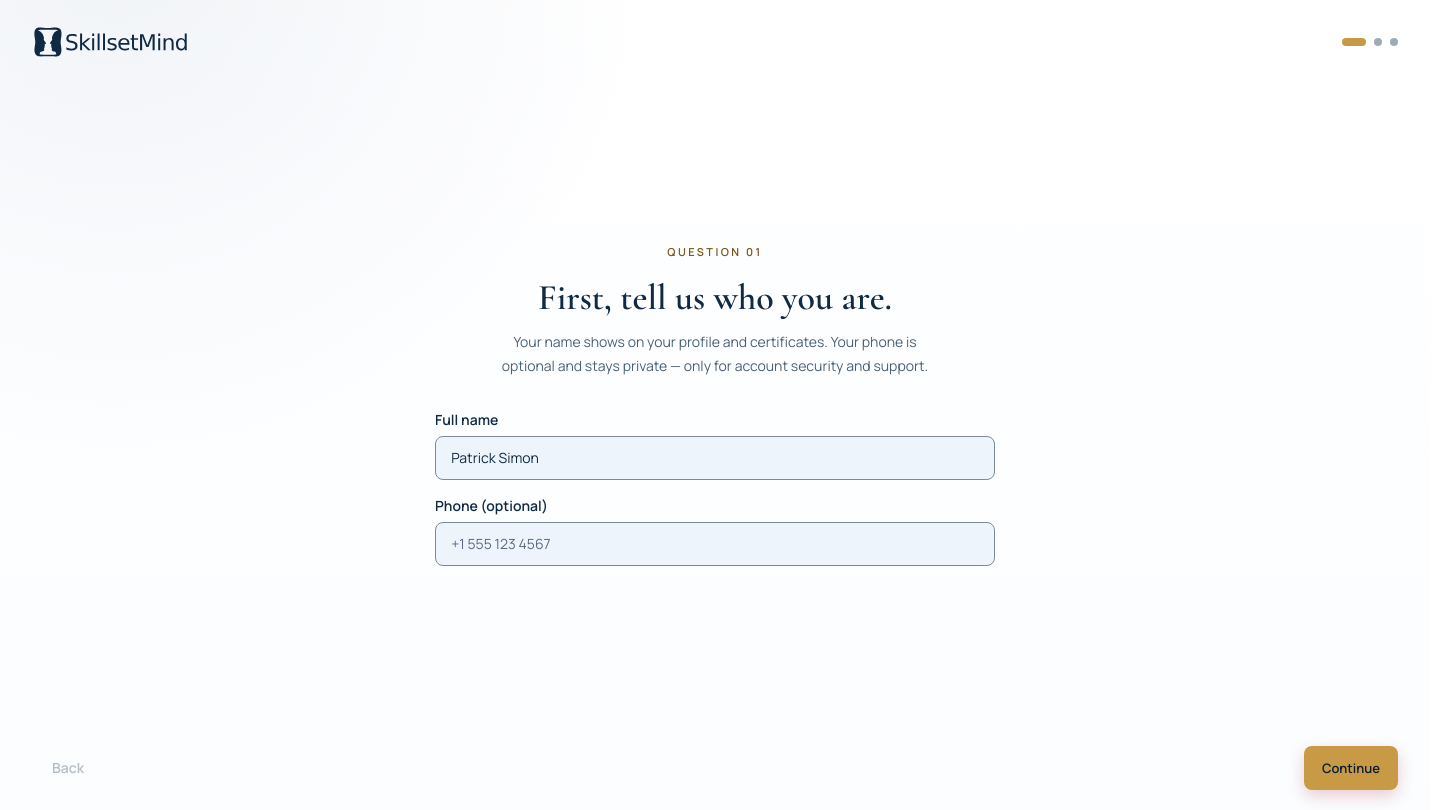
Test case: boas-vindas: o passo de perfil vem primeiro › aluno que digita um telefone torto nao passa com ele
Expected: the heading "First, tell us who you are." is shown, [538,276,892,319]
Type "12" into the field labelled "Phone (optional)" at x=715, y=544, box [435,522,995,566]
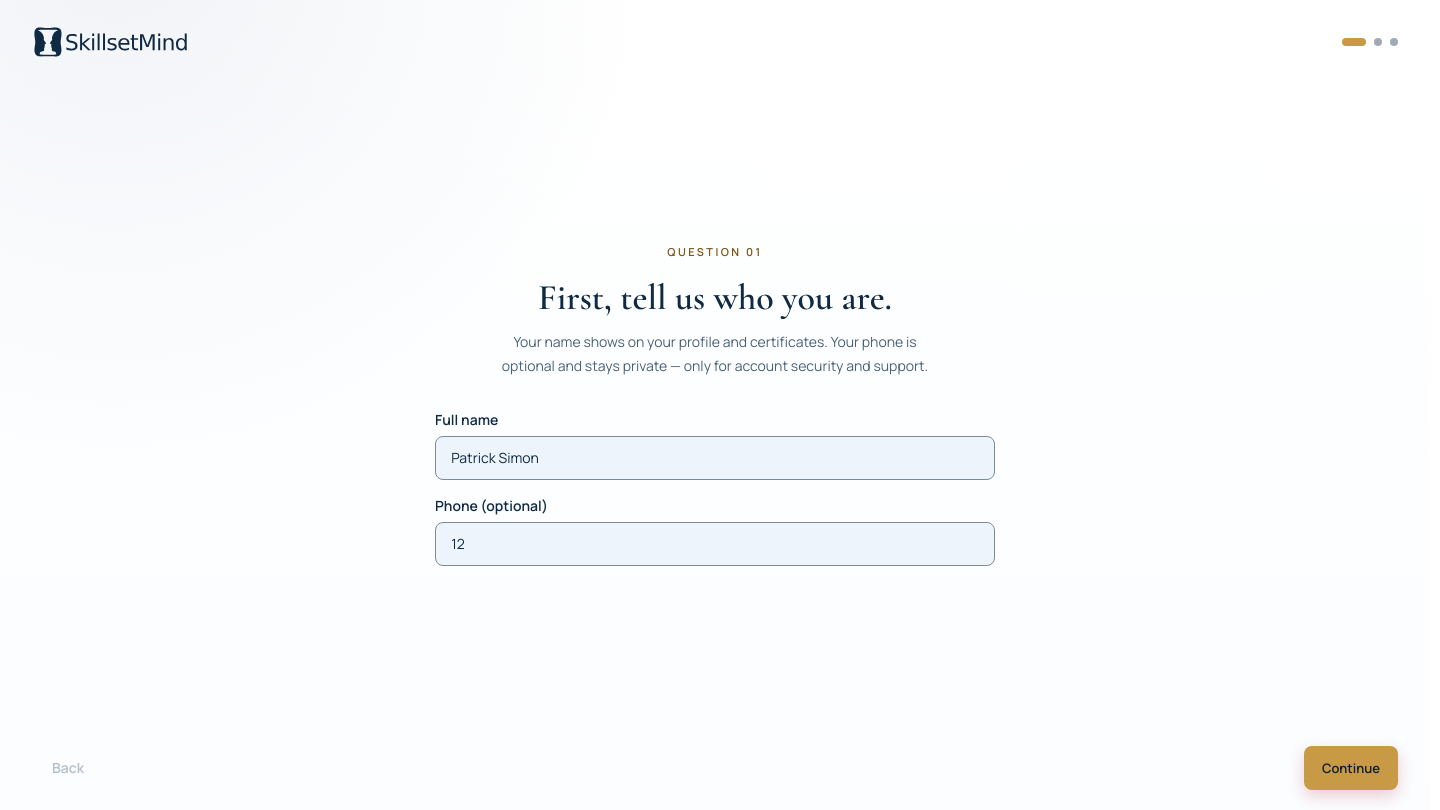
Click the button "Continue" at x=1351, y=768, box [1304,746,1398,790]
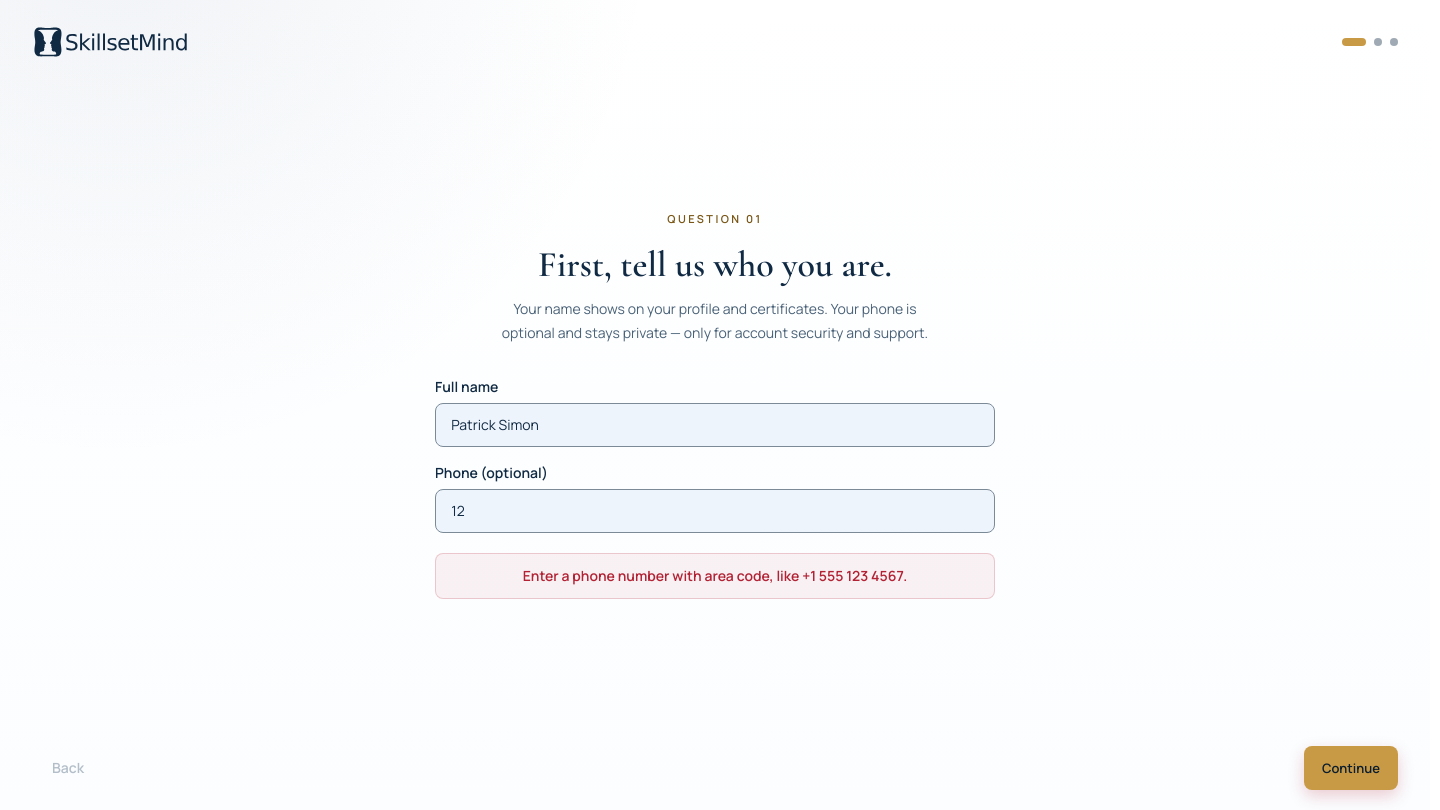
Now the text "Enter a phone number with area code, like +1 555 123 4567." is shown, box [435,553,995,599]
